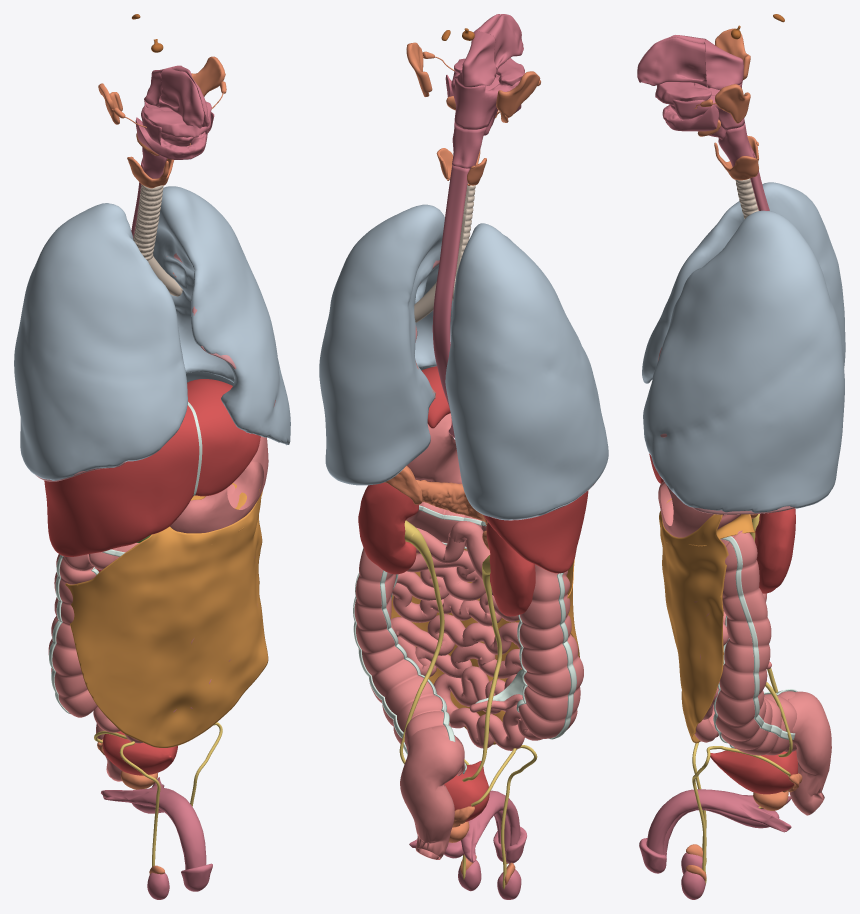
The model's file is visceral.glb.
3 renders of one model, left to right at view 1: azimuth 30°, elevation 25°; view 2: azimuth 150°, elevation 25°; view 3: azimuth 270°, elevation 25°, orthographic. The views are drawn at different scales.
Parts seen in each view (by area): view 1: Pleura, Greater omentum, Liver, Ascending colon, Stomach, Corpus cavernosum of penis, Gingiva, Mucosa of nasal cavity, Urinary bladder, Trachea, Parotid gland.l, Mesocolic taenia (+3 smaller); view 2: Pleura, Jejunum, Ascending colon, Descending colon, Sigmoid colon, Liver, Kidney.l, Oesophagus, Kidney.r, Stomach, Oropharynx, Corpus cavernosum of penis (+20 smaller); view 3: Pleura, Greater omentum, Descending colon, Sigmoid colon, Corpus cavernosum of penis, Mucosa of nasal cavity, Kidney.l, Urinary bladder, Gingiva, Stomach, Mesocolic taenia, Nasopharynx (+13 smaller).
Part boxes in pixels (x1,y1,x2,y2): Pleura: (14, 186, 290, 480); Greater omentum: (65, 484, 268, 747); Liver: (44, 379, 260, 556); Ascending colon: (48, 554, 97, 717); Stomach: (170, 436, 268, 533); Corpus cavernosum of penis: (101, 777, 206, 869); Gingiva: (135, 101, 211, 159); Mucosa of nasal cavity: (159, 65, 210, 128); Urinary bladder: (102, 731, 177, 775); Trachea: (133, 184, 163, 260); Parotid gland.l: (191, 56, 225, 96); Mesocolic taenia: (49, 549, 125, 713); Pleura: (319, 204, 608, 520); Jejunum: (391, 527, 542, 750); Ascending colon: (518, 564, 583, 738); Descending colon: (354, 548, 464, 775); Sigmoid colon: (400, 727, 464, 859); Liver: (421, 366, 588, 573); Kidney.l: (358, 482, 418, 574); Oesophagus: (432, 165, 469, 438); Kidney.r: (486, 522, 535, 616); Stomach: (407, 413, 462, 483); Oropharynx: (451, 71, 520, 129); Corpus cavernosum of penis: (409, 790, 520, 862); Pleura: (642, 182, 845, 513); Greater omentum: (659, 498, 728, 743); Descending colon: (715, 530, 796, 755); Sigmoid colon: (788, 691, 831, 815); Corpus cavernosum of penis: (646, 789, 791, 854); Mucosa of nasal cavity: (637, 35, 706, 86); Kidney.l: (755, 508, 795, 593); Urinary bladder: (710, 748, 798, 794); Gingiva: (655, 82, 718, 131); Stomach: (658, 481, 740, 537); Mesocolic taenia: (720, 536, 795, 739); Nasopharynx: (705, 39, 743, 89).
Bounding box in the file's own units: 0.2634 × 0.8931 × 0.1926.
